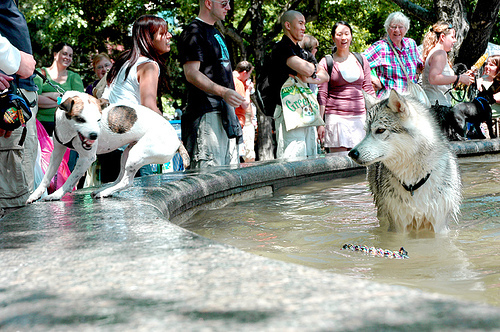dog: (346, 86, 464, 236)
